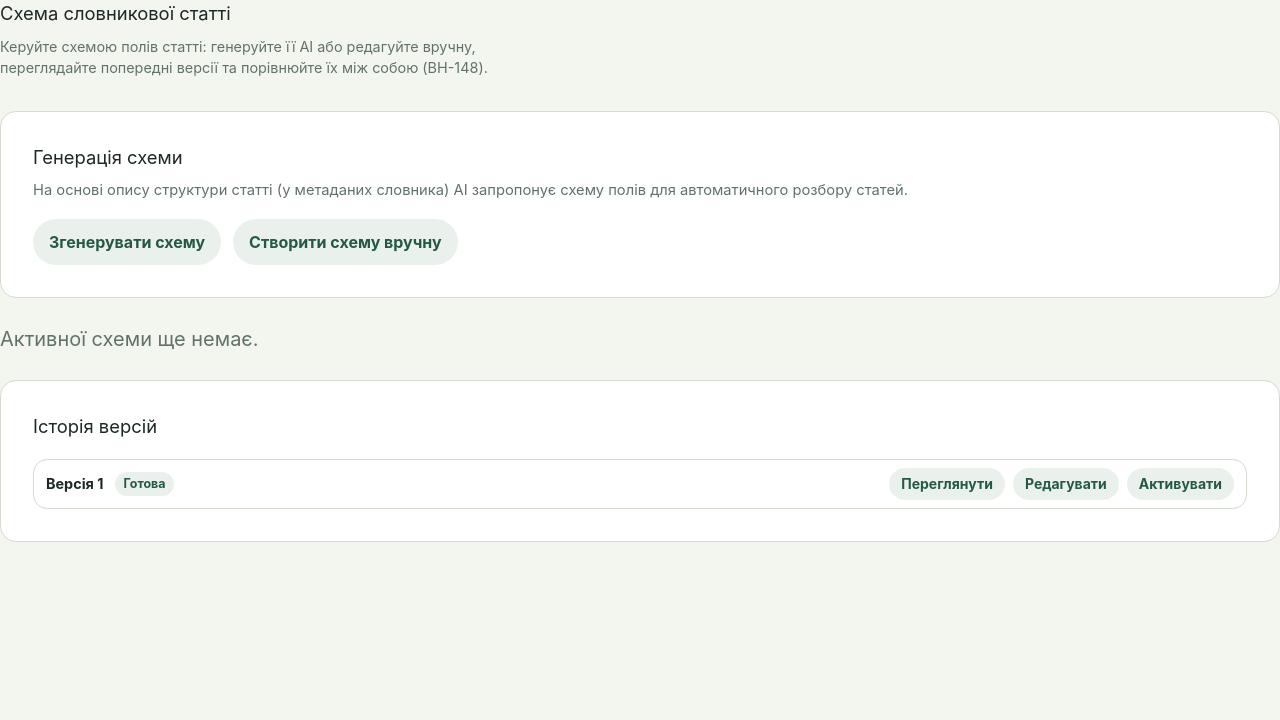
Test: ArticleSchemaPage › activates a ready, unactivated schema version
Click the button "Активувати": (1180, 484) [1127, 468, 1234, 500]
(page scrolled)
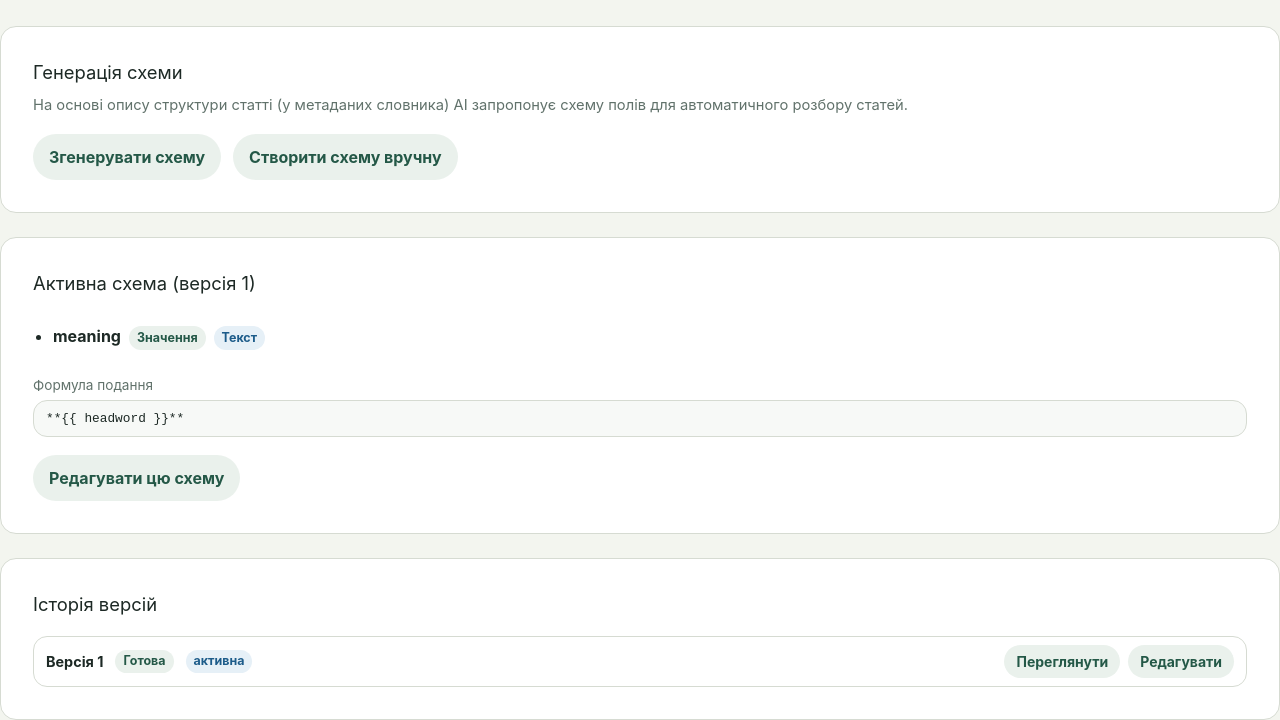
Now the text "активна" is shown, box [186, 650, 252, 673]
Now the button "Активувати" is gone
